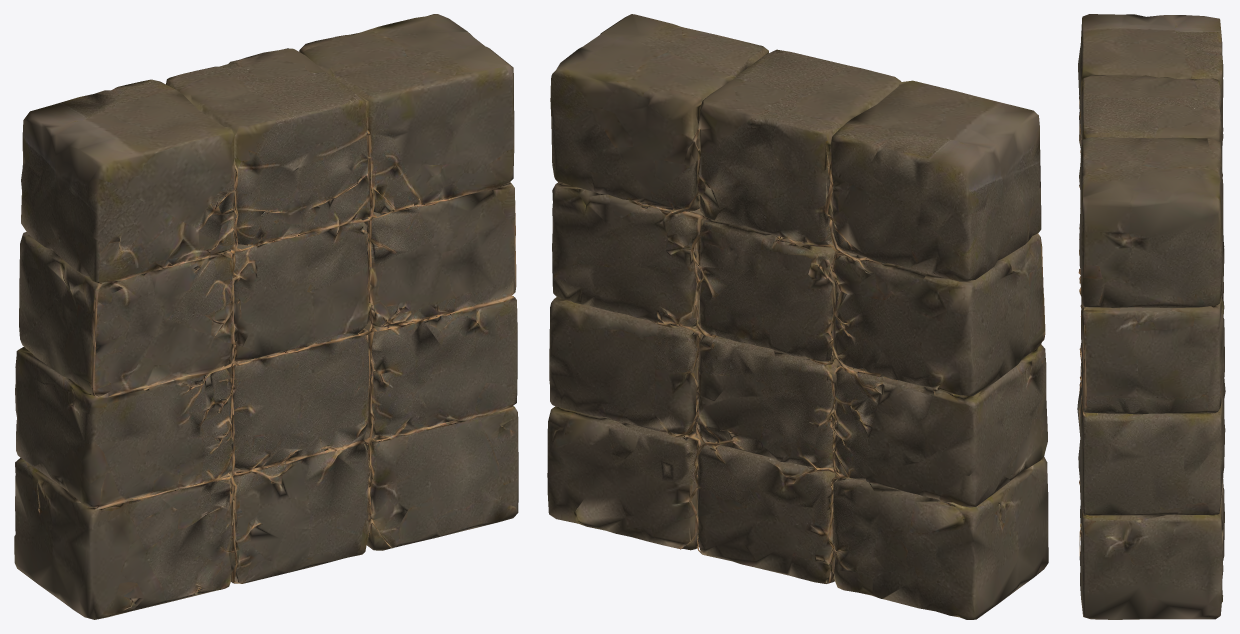
File: stone-wall.glb
The picture shows the model from 3 angles, left to right: view 1: azimuth 30°, elevation 25°; view 2: azimuth 150°, elevation 25°; view 3: azimuth 270°, elevation 25°; orthographic projection. The views are drawn at different scales.
Bounding box in the file's own units: 1.9 × 1.9 × 0.6071.
1 material, 1 textured.
